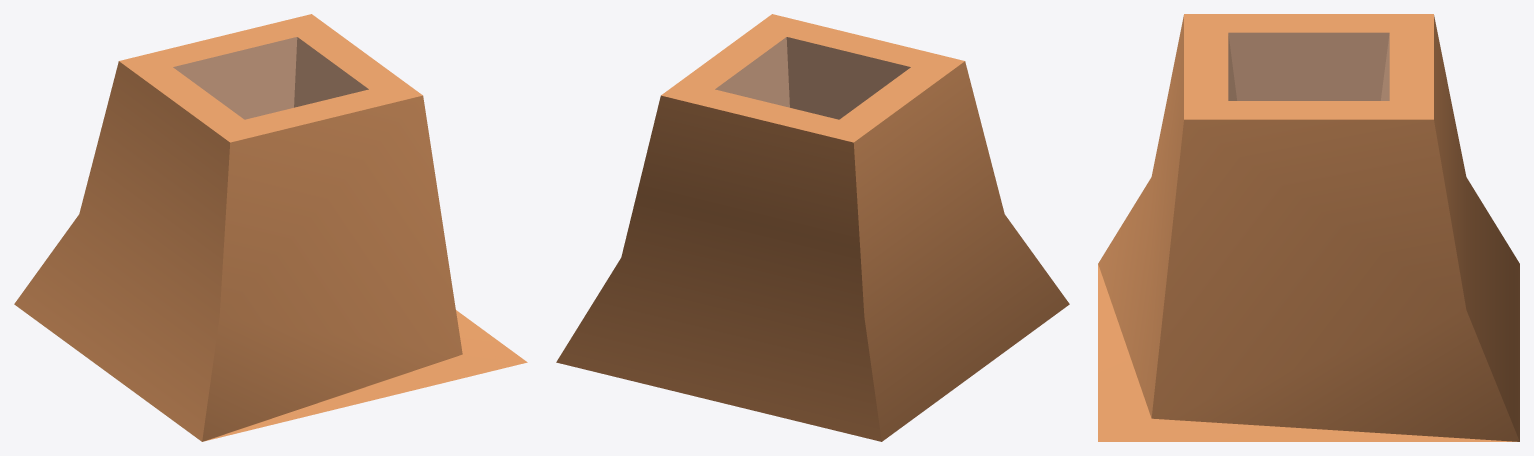
The model's file is treeStump_deep.obj.
3 views of the same model, side by side, from view 1: azimuth 30°, elevation 25°; view 2: azimuth 150°, elevation 25°; view 3: azimuth 270°, elevation 25° (orthographic). The views are drawn at different scales.
Parts seen in each view (by area): view 1: treeStump_deep; view 2: treeStump_deep; view 3: treeStump_deep.
Part boxes in pixels (bbox=[...]): treeStump_deep: bbox=[14, 14, 527, 441]; treeStump_deep: bbox=[556, 14, 1069, 441]; treeStump_deep: bbox=[1098, 14, 1519, 441].
Size of the model in its own units: 2.81 by 2.11 by 2.81.
